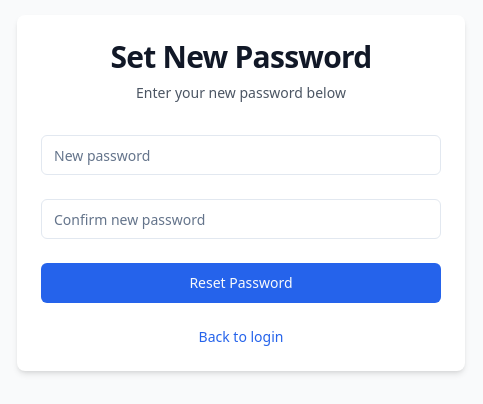
Test: ResetPassword Page › validates password match
In the password field with placeholder "New password": (241, 155) [41, 135, 441, 175], type "password123"
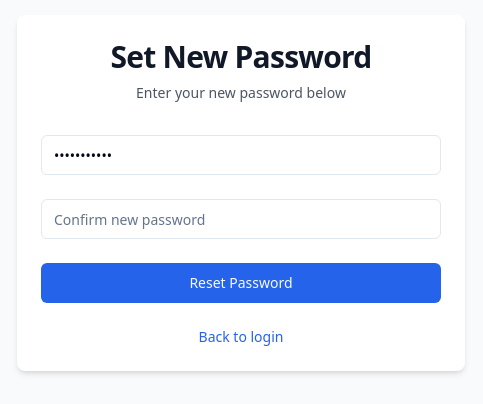
In the password field with placeholder "Confirm new password": (241, 219) [41, 199, 441, 239], type "mismatch"
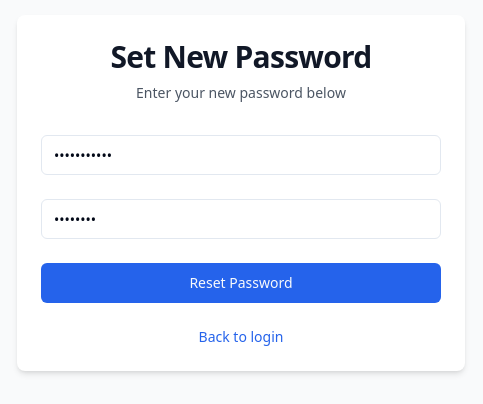
Click the button "Reset Password": (241, 283) [41, 263, 441, 303]
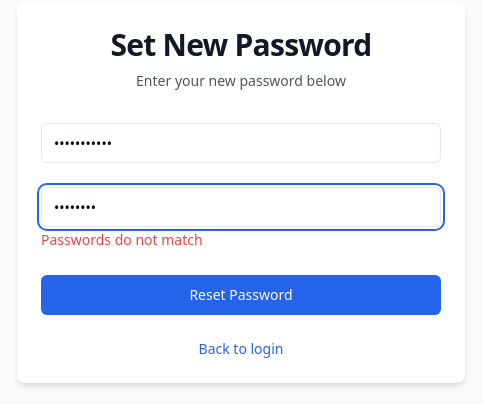
Expected: the text "Passwords do not match" is shown, [41, 230, 203, 249]
